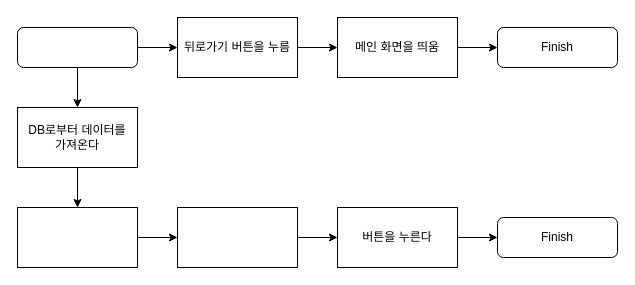
This 635x285 diagram has some shape labels left out. The box of each missing label's shape, as (x1, y1, x2, y2) in pixels:
Start: (16, 26, 138, 68)
게임을 선택한다: (176, 206, 298, 268)
리스트뷰에 데이터를 띄운다: (16, 206, 138, 268)
